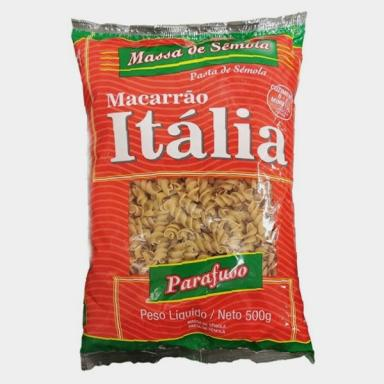pasta package: (73, 13, 313, 369)
